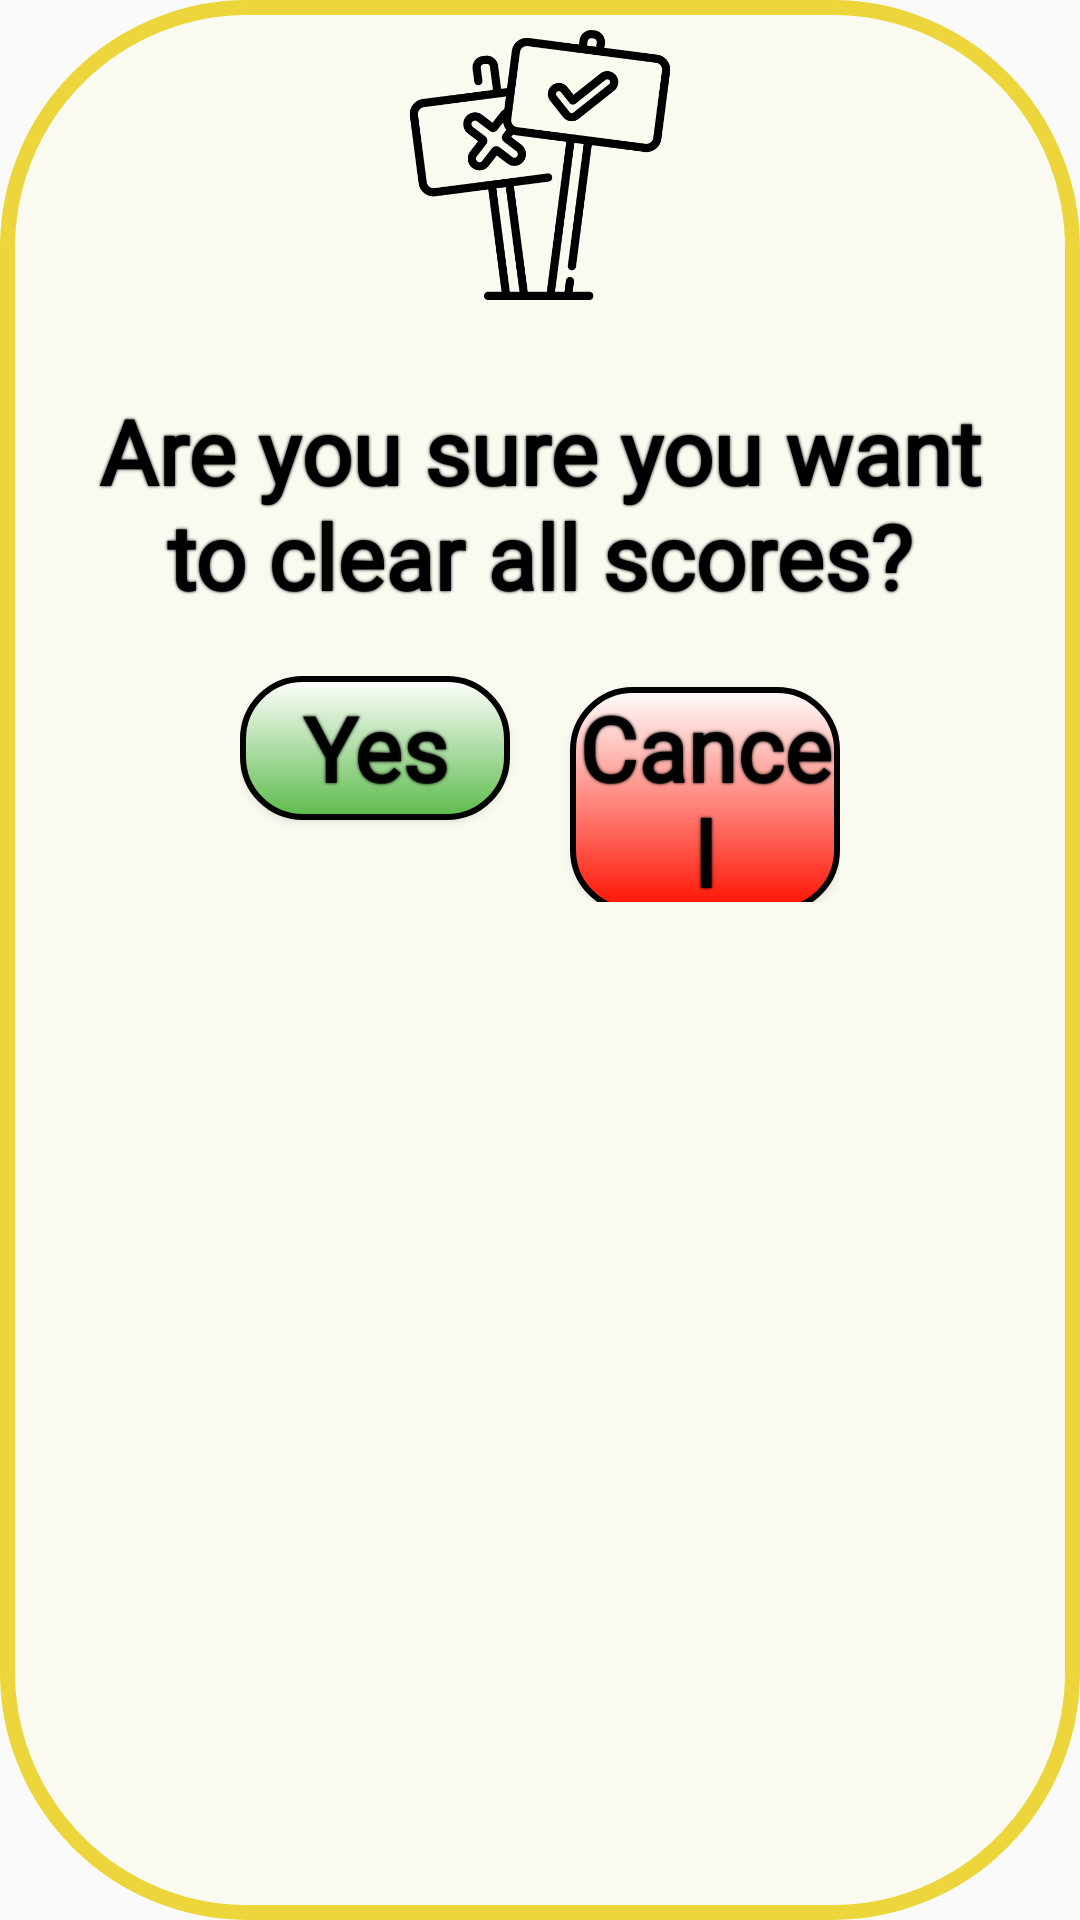

Icon click points for this 1080w x 1920h phone screenshot, format point (x, y):
vote: point (540, 165)
